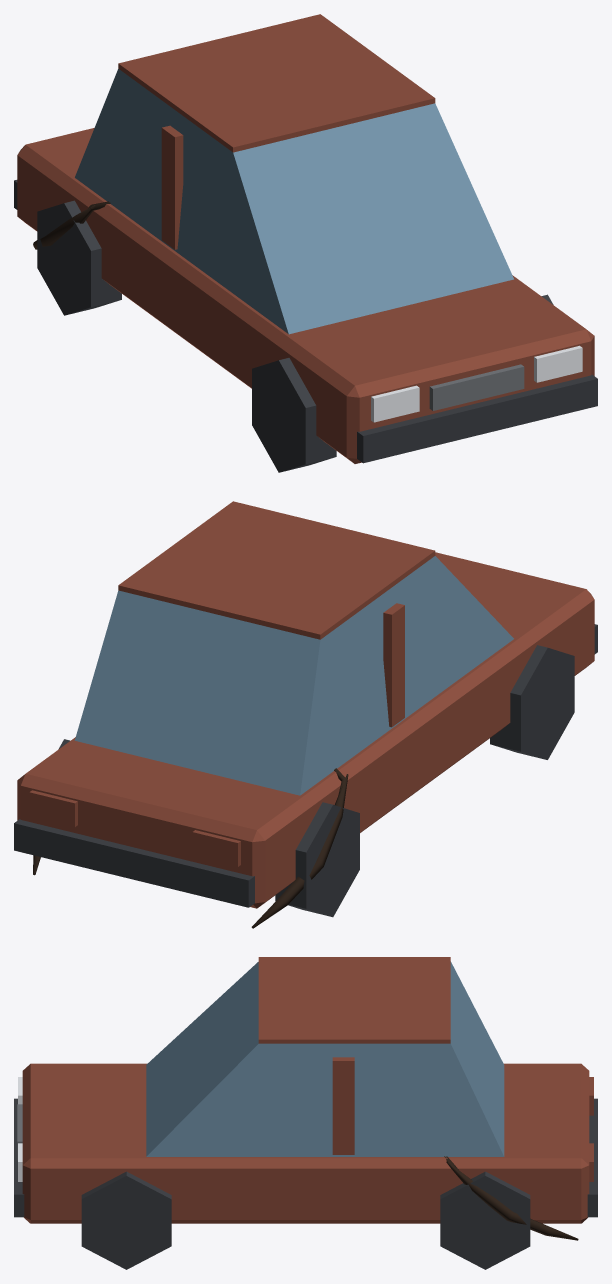
Rendered from prop-car-hatchback-infested-1.glb.
The picture shows the model from 3 angles, top to bottom: view 1: azimuth 30°, elevation 25°; view 2: azimuth 150°, elevation 25°; view 3: azimuth 270°, elevation 25°; orthographic projection. The views are drawn at different scales.
Visible parts, largest first — view 1: greenhouse, painted-body, painted-roof, bumper-1, tyre-0.57--1, tyre--0.57--1, window-pillar--1, grille, light-1--1, light-1-1, host_growth; view 2: greenhouse, painted-body, painted-roof, bumper--1, tyre-0.57--1, tyre--0.57--1, window-pillar--1, host_growth, light--1-1, light--1--1; view 3: painted-body, greenhouse, painted-roof, tyre-0.57-1, tyre--0.57-1, window-pillar-1, host_growth, bumper--1, bumper-1.
Part boxes in pixels (x1,y1,x2,y2): greenhouse: [75, 69, 513, 334]; painted-body: [17, 128, 594, 463]; painted-roof: [118, 14, 435, 152]; bumper-1: [357, 374, 597, 463]; tyre-0.57--1: [252, 358, 336, 472]; tyre--0.57--1: [37, 200, 121, 315]; window-pillar--1: [161, 125, 183, 249]; grille: [429, 364, 524, 410]; light-1--1: [371, 385, 419, 422]; light-1-1: [534, 345, 582, 382]; host_growth: [33, 201, 110, 249]; greenhouse: [74, 556, 513, 795]; painted-body: [17, 552, 594, 908]; painted-roof: [118, 501, 435, 639]; bumper--1: [14, 819, 254, 907]; tyre-0.57--1: [490, 645, 574, 759]; tyre--0.57--1: [275, 802, 359, 917]; window-pillar--1: [383, 603, 404, 727]; host_growth: [33, 768, 348, 928]; light--1-1: [29, 790, 77, 827]; light--1--1: [192, 830, 240, 866]; painted-body: [22, 1063, 589, 1223]; greenhouse: [146, 961, 504, 1156]; painted-roof: [258, 957, 450, 1043]; tyre-0.57-1: [81, 1171, 171, 1269]; tyre--0.57-1: [440, 1171, 530, 1269]; window-pillar-1: [332, 1057, 354, 1154]; host_growth: [444, 1156, 578, 1240]; bumper--1: [587, 1098, 597, 1217]; bumper-1: [14, 1098, 24, 1217].
Bounding box in the file's own units: 0.855 × 0.76 × 1.85.
